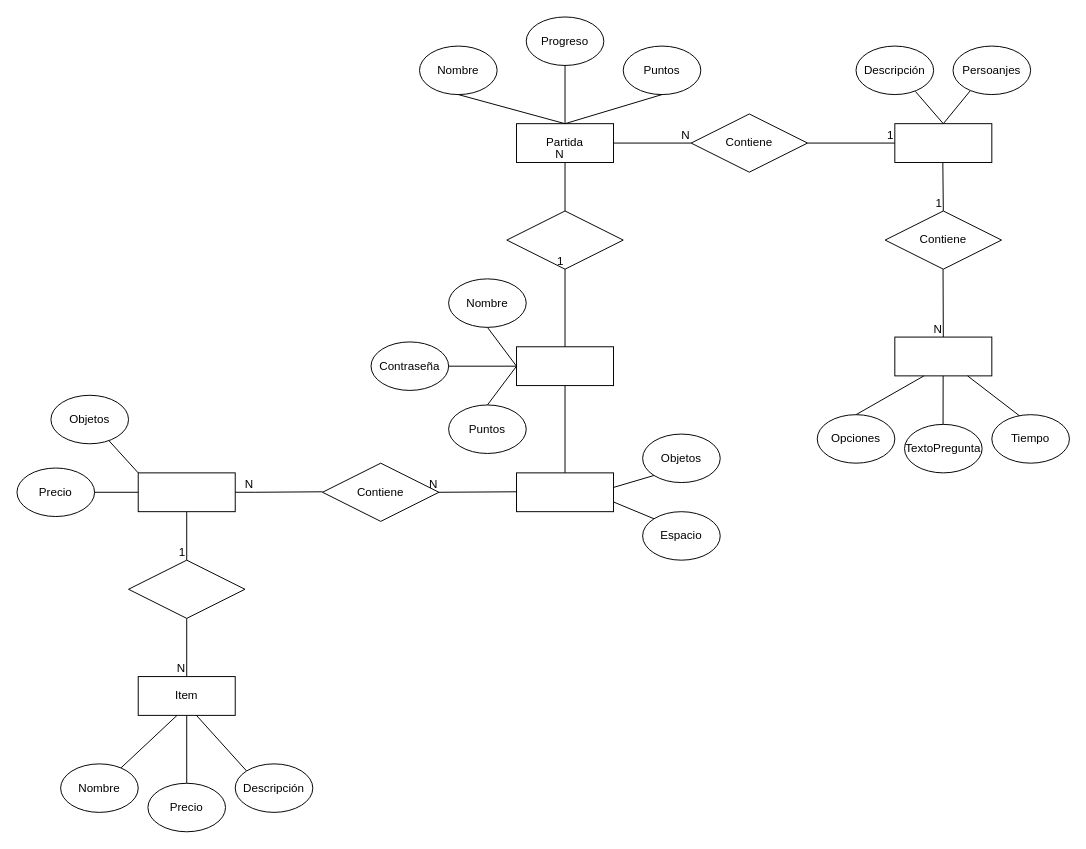
Some shapes in this 1086 by 849 pixel diagram are drawn without their labels. The box of each missing label's shape, as (x1, y1, x2, y2) in pixels:
Crea: (506, 210, 623, 269)
Escena: (894, 123, 992, 162)
Inventario: (516, 472, 614, 512)
Jugador: (516, 346, 614, 386)
Pregunta: (894, 336, 992, 376)
Tienda: (137, 472, 235, 512)
Vende: (128, 559, 245, 618)
